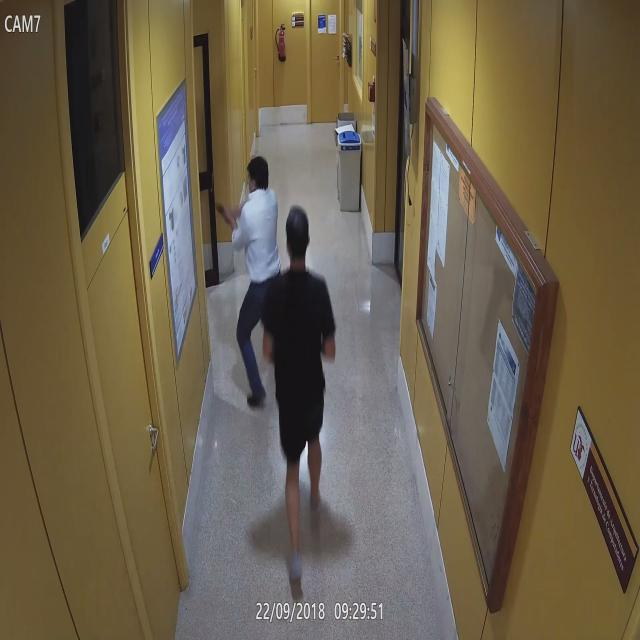Gun: (210, 198, 226, 215)
